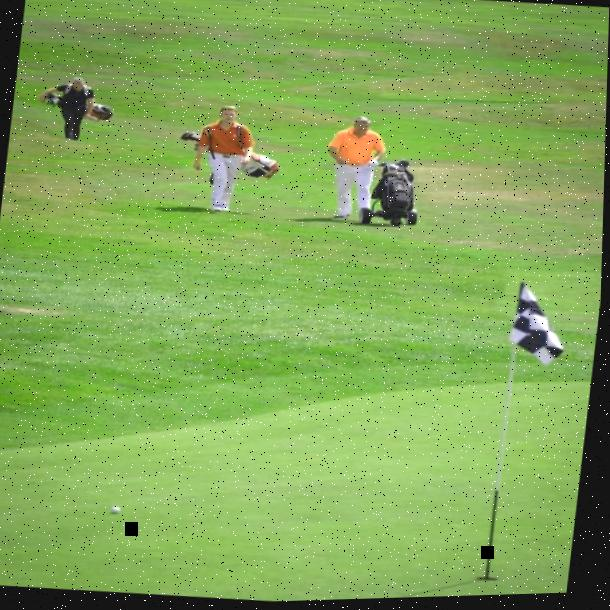GolfBall: (105, 503, 132, 519)
